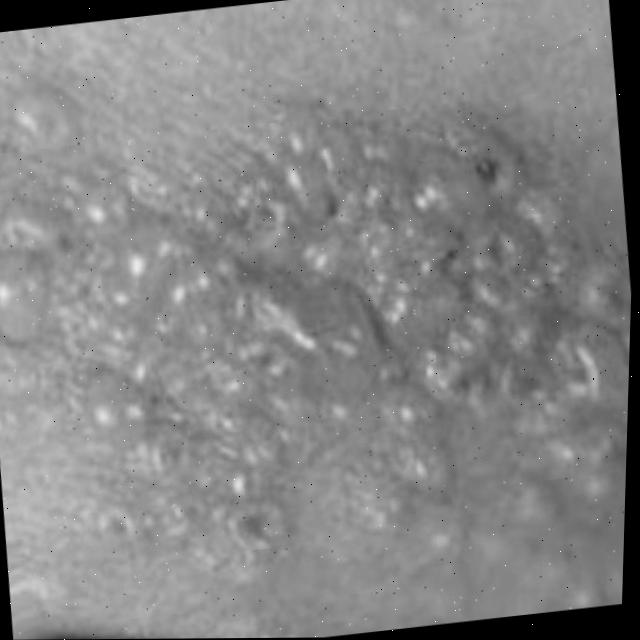Shingles: (0, 27, 639, 640)
